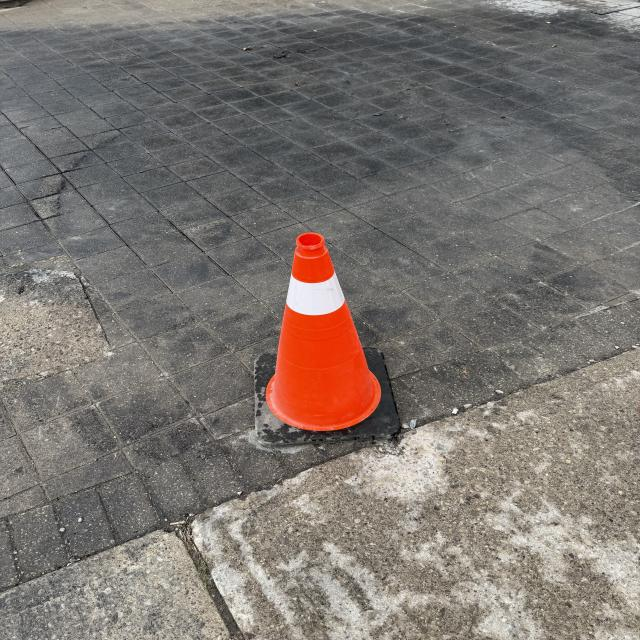Traffic Cone: (250, 231, 404, 451)
